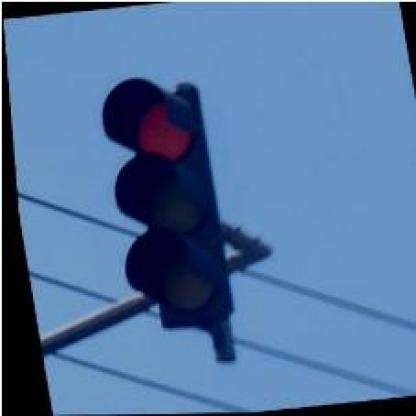red: (92, 72, 233, 331)
